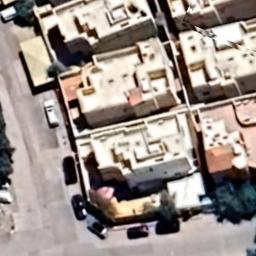sedan: (62, 156, 78, 186), (86, 218, 108, 239), (72, 194, 88, 220), (127, 224, 149, 238)
van: (42, 99, 60, 128), (0, 5, 22, 21)
